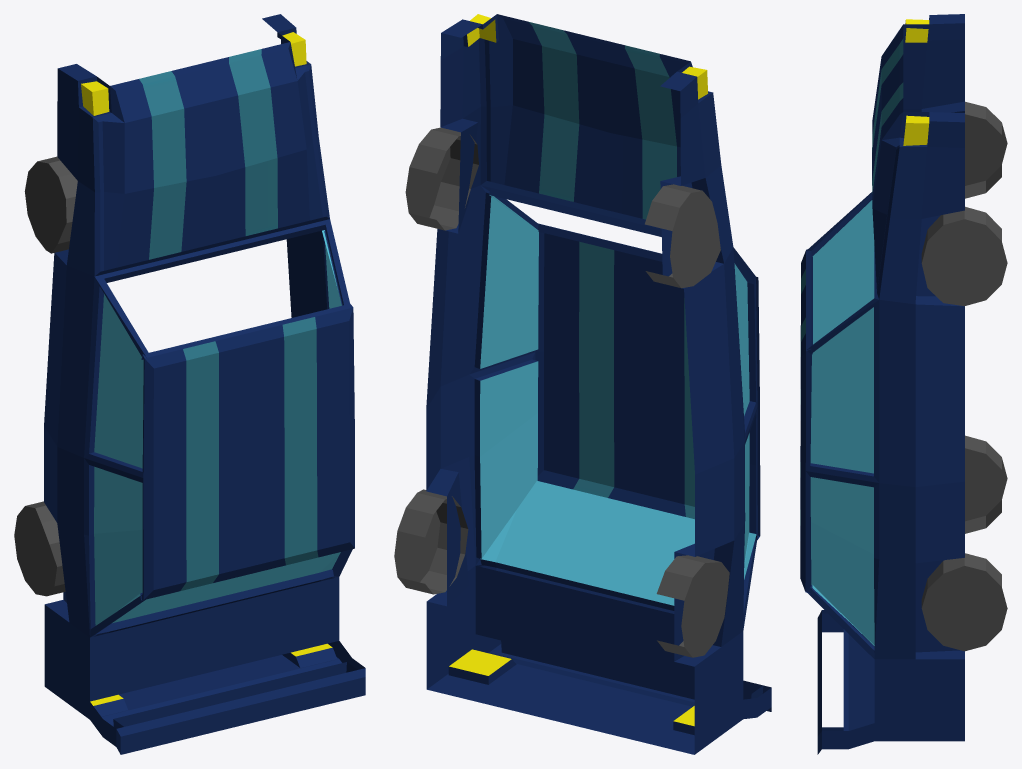
File: PlayerCar_Blue.fbx
3 views of the same model, side by side, from view 1: azimuth 30°, elevation 25°; view 2: azimuth 150°, elevation 25°; view 3: azimuth 270°, elevation 25° (orthographic). The views are drawn at different scales.
Parts seen in each view (by area): view 1: Cube.002; view 2: Cube.002; view 3: Cube.002.
Part boxes in pixels (x1,y1,x2,y2): Cube.002: [14, 14, 365, 754]; Cube.002: [394, 14, 771, 754]; Cube.002: [800, 14, 1007, 754].
Bounding box in the file's own units: 116 × 179 × 388.
